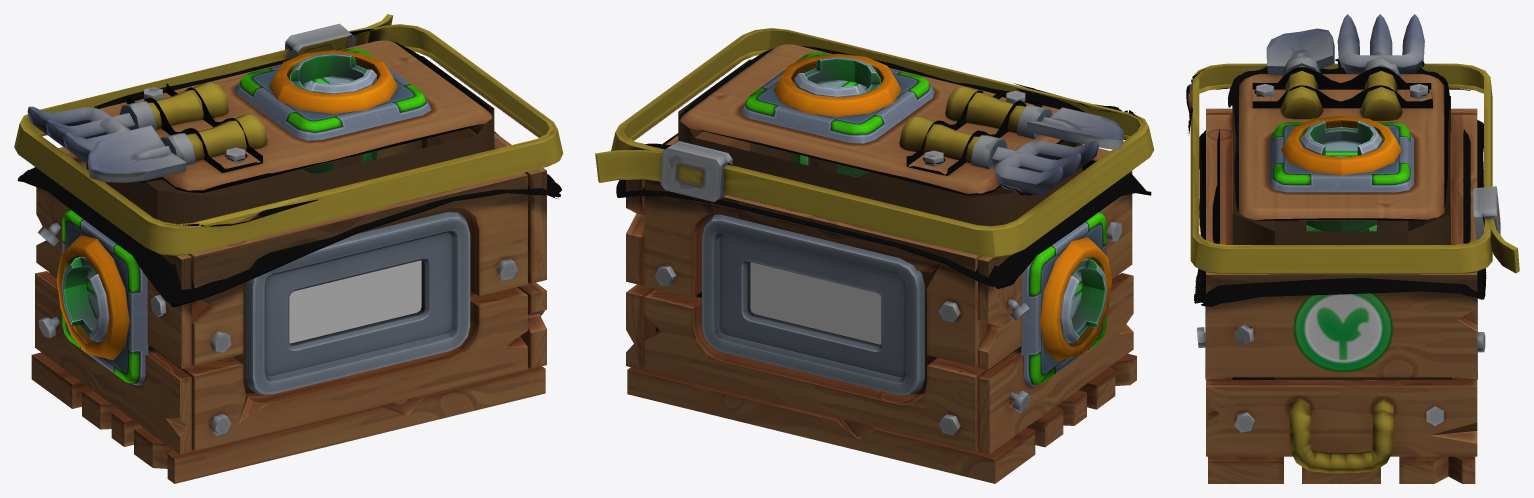
File: obj_containers_seed.fbx
3 views of the same model, side by side, from view 1: azimuth 30°, elevation 25°; view 2: azimuth 150°, elevation 25°; view 3: azimuth 270°, elevation 25° (orthographic). The views are drawn at different scales.
Parts seen in each view (by area): view 1: obj_containers_seeds; view 2: obj_containers_seeds; view 3: obj_containers_seeds.
Part boxes in pixels (x1,y1,x2,y2): obj_containers_seeds: [14, 14, 563, 483]; obj_containers_seeds: [595, 28, 1154, 483]; obj_containers_seeds: [1186, 14, 1519, 483].
Bounding box in the file's own units: 4.81 × 3.38 × 3.48.
